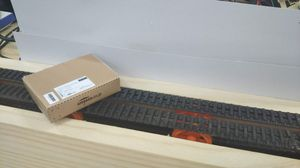box2: (21, 52, 121, 124)
